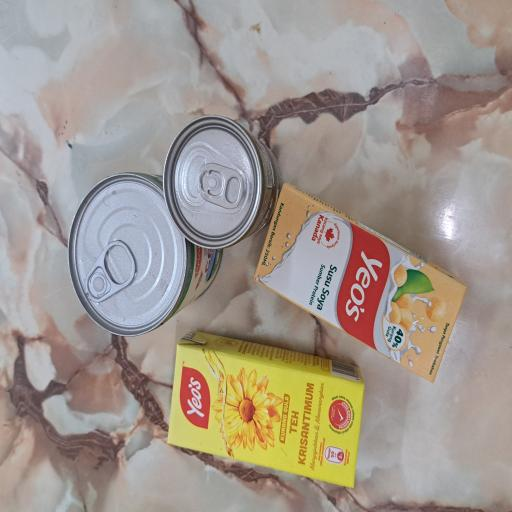can: (132, 91, 256, 298), (196, 217, 298, 374)
drink carton: (17, 222, 140, 486), (96, 338, 248, 512)
pop tab: (157, 112, 205, 181), (227, 264, 263, 325)
